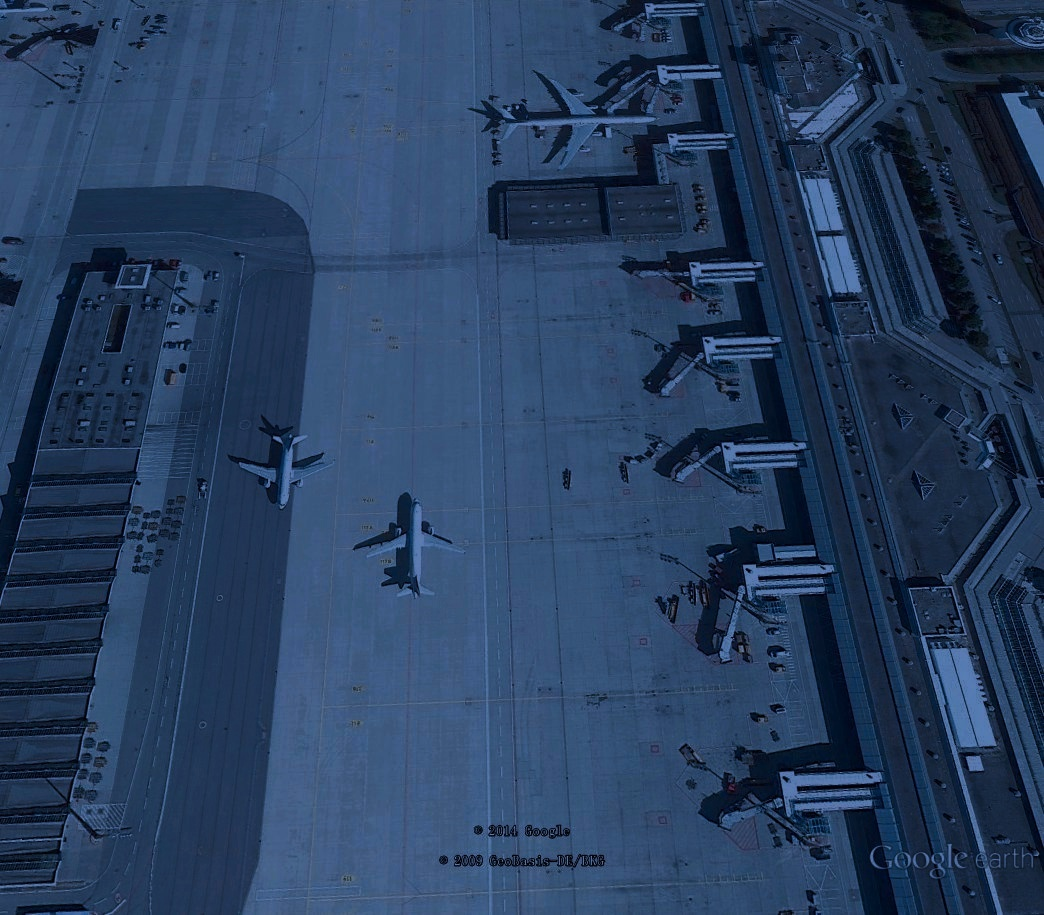aircraft: (483, 69, 667, 178), (355, 489, 469, 603), (231, 429, 337, 514)
